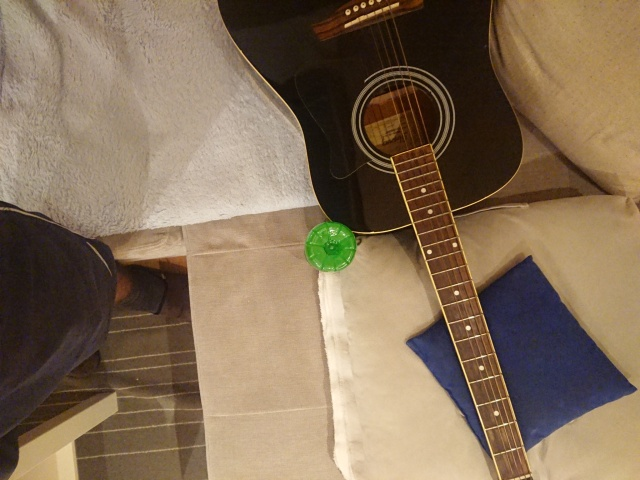Vindi Iso Sport Lemon-Grapefruit 500mL: (302, 219, 359, 274)
